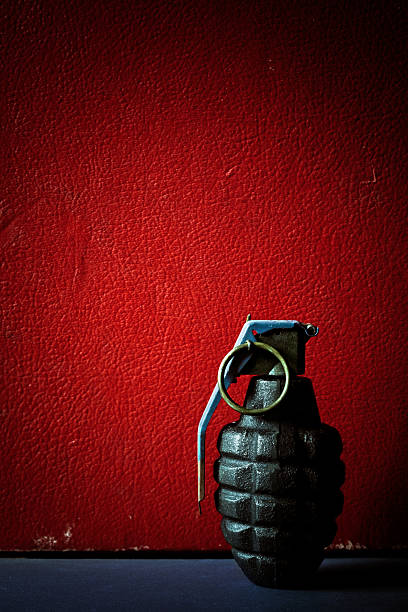e1: (191, 316, 341, 592)
